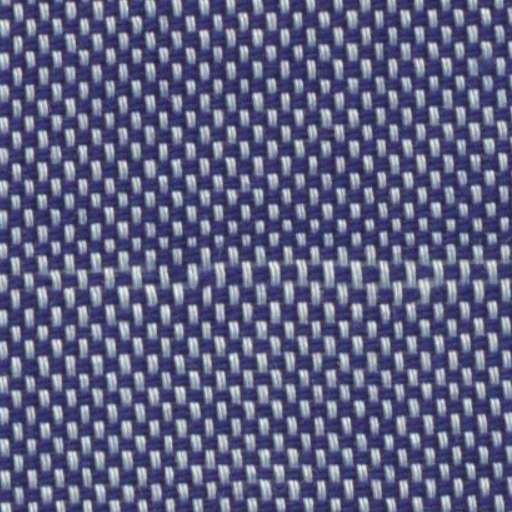TuoSha: (20, 226, 488, 331)
